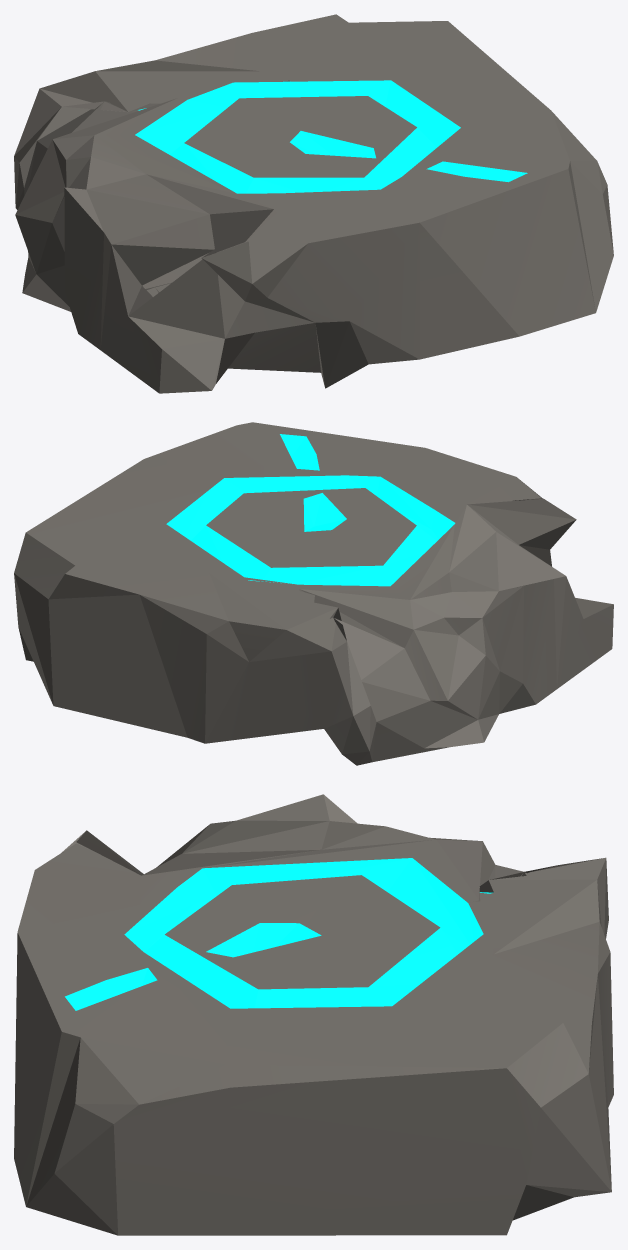
The picture shows the model from 3 angles, top to bottom: view 1: azimuth 30°, elevation 25°; view 2: azimuth 150°, elevation 25°; view 3: azimuth 270°, elevation 25°; orthographic projection. The views are drawn at different scales.
Parts seen in each view (by area): view 1: Obj3d66-1649282-39-801; view 2: Obj3d66-1649282-39-801; view 3: Obj3d66-1649282-39-801.
Part boxes in pixels (bbox=[...]): Obj3d66-1649282-39-801: bbox=[14, 14, 613, 393]; Obj3d66-1649282-39-801: bbox=[14, 422, 613, 765]; Obj3d66-1649282-39-801: bbox=[14, 794, 613, 1235].
Size of the model in its own units: 959 by 329 by 888.
1 material, 1 textured.
